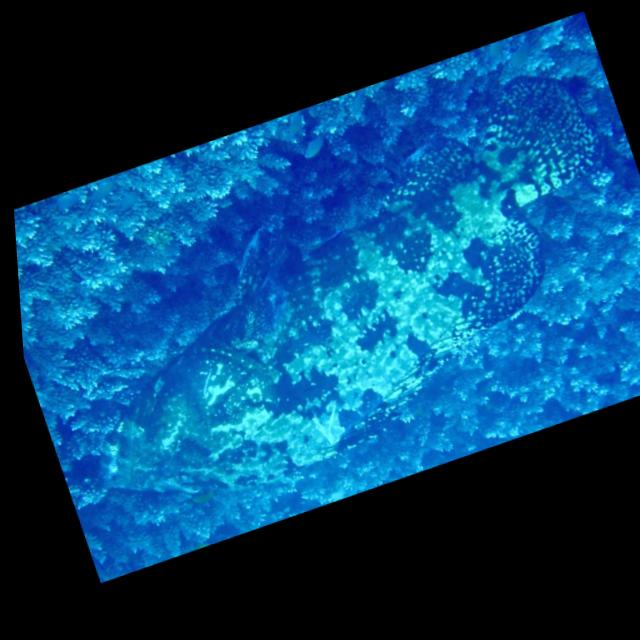Groupers: (9, 50, 640, 539)
